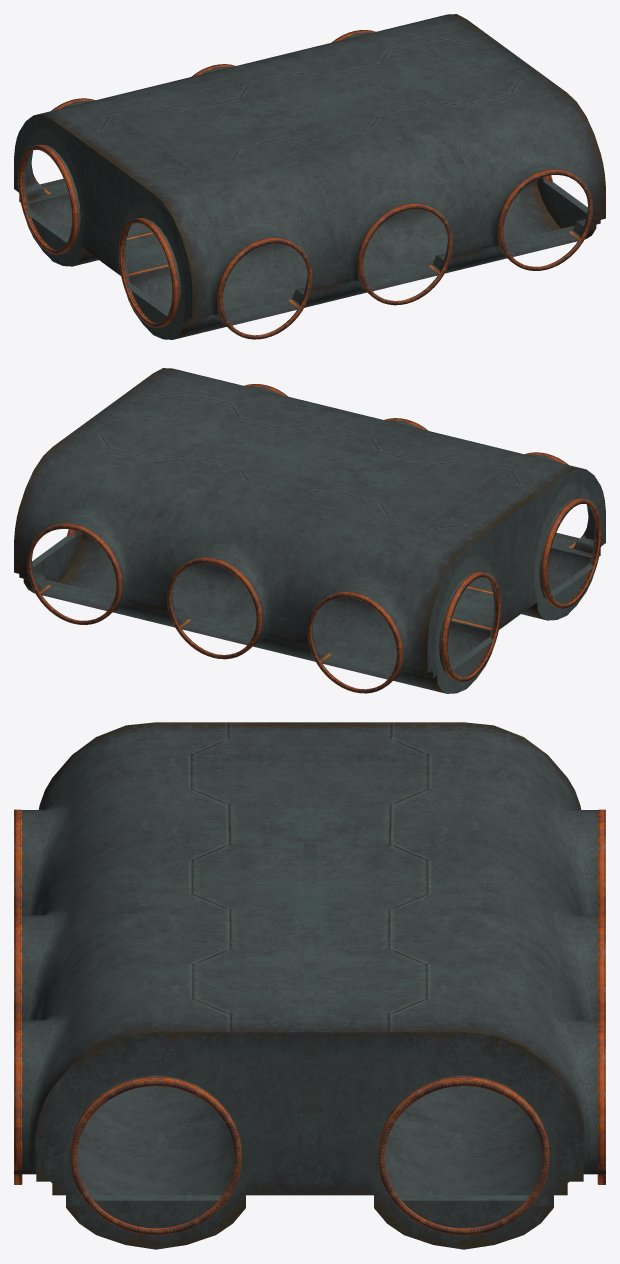
File: phi_area_hub.DAE
The picture shows the model from 3 angles, top to bottom: view 1: azimuth 30°, elevation 25°; view 2: azimuth 150°, elevation 25°; view 3: azimuth 270°, elevation 25°; orthographic projection. The views are drawn at different scales.
Visible parts, largest first — view 1: general_area, pPipe49, pPipe60, pPipe45, pPipe44, pPipe46; view 2: general_area, pPipe60, pPipe49, pPipe43, pPipe42, pPipe40; view 3: general_area, pPipe47, pPipe41, pPipe40, pPipe46, pPipe43, pPipe44, pPipe42, pPipe45.
Boxes of the visible parts, left/top/right/bottom form: general_area: left=14, top=14, right=605, bottom=339; pPipe49: left=18, top=144, right=78, bottom=254; pPipe60: left=118, top=218, right=178, bottom=327; pPipe45: left=357, top=203, right=452, bottom=305; pPipe44: left=217, top=237, right=312, bottom=339; pPipe46: left=497, top=169, right=592, bottom=270; general_area: left=14, top=368, right=605, bottom=693; pPipe60: left=541, top=498, right=601, bottom=608; pPipe49: left=441, top=572, right=501, bottom=681; pPipe43: left=307, top=591, right=402, bottom=693; pPipe42: left=167, top=557, right=262, bottom=659; pPipe40: left=27, top=523, right=122, bottom=624; general_area: left=14, top=722, right=605, bottom=1249; pPipe47: left=70, top=1076, right=241, bottom=1235; pPipe41: left=378, top=1076, right=549, bottom=1235; pPipe40: left=597, top=1020, right=605, bottom=1184; pPipe46: left=14, top=1020, right=22, bottom=1184; pPipe43: left=597, top=809, right=605, bottom=914; pPipe44: left=14, top=809, right=22, bottom=914; pPipe42: left=597, top=915, right=605, bottom=1019; pPipe45: left=14, top=915, right=22, bottom=1019.
Bounding box in the file's own units: 16 × 5.07 × 12.5.
